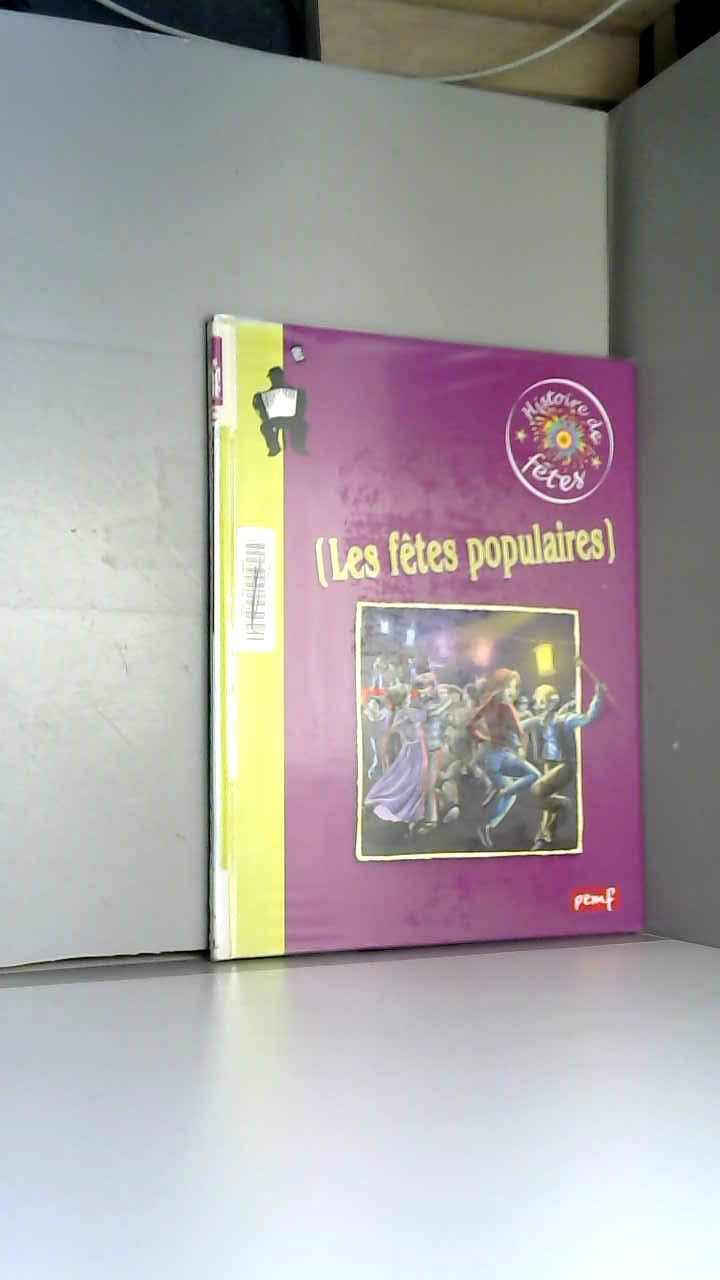book: (155, 275, 689, 1013)
